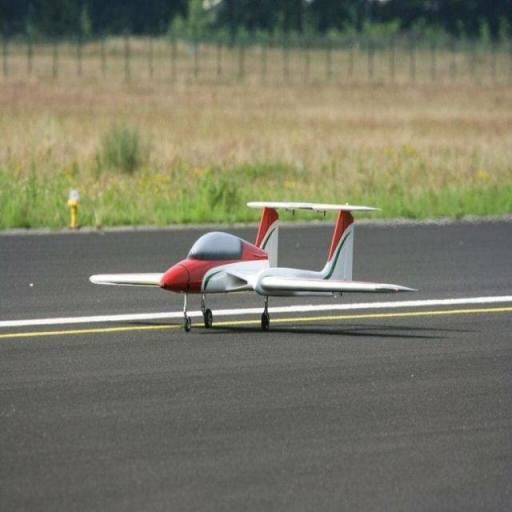uav: (88, 198, 418, 332)
